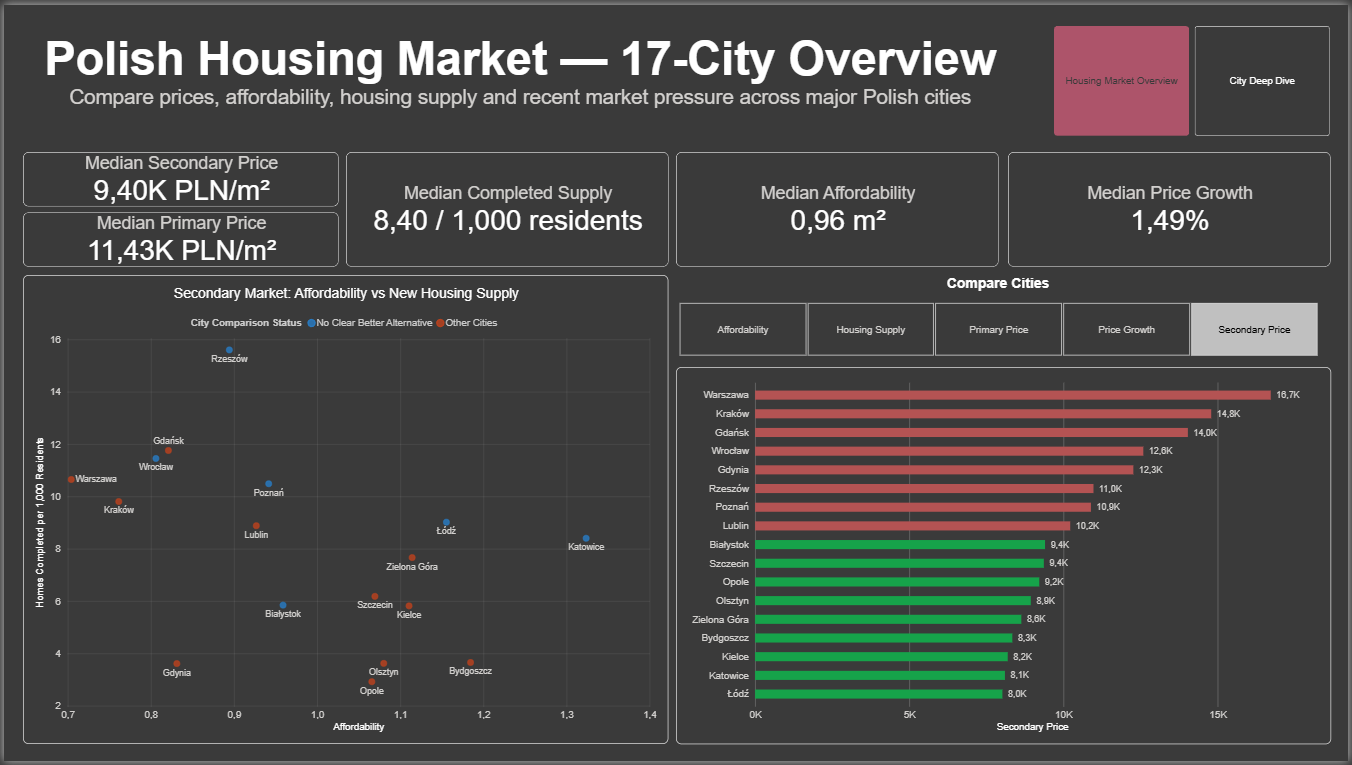

This screenshot's page, from the dashboard's own definition file:
{"tool":"powerbi","page":{"name":"Housing Market Overview","canvas":[1920,1080],"ordinal":0},"visuals":[{"type":"pageNavigator","box":[1500,30,395.7,157.1],"z":0},{"type":"textbox","title":"Polish Housing Market — 17-City Overview","box":[0,38.8,1474.7,253.1],"z":1000},{"type":"cardVisual","fields":{"Data":["_Measures.Median Completed Supply"]},"box":[488.6,210,461.4,164.3],"z":2000},{"type":"cardVisual","fields":{"Data":["_Measures.Median Affordability"]},"box":[960,210,461.4,164.3],"z":3000},{"type":"cardVisual","fields":{"Data":["_Measures.Median Price Pressure"]},"box":[1434.6,210.5,461.1,164.1],"z":4000},{"type":"cardVisual","fields":{"Data":["_Measures.Median Secondary Price","_Measures.Median Primary Price"]},"box":[27.6,210.5,451,164.1],"z":5000},{"type":"scatterChart","title":"Secondary Market: Affordability vs New Housing Supply","fields":{"X":["Avg(city_snapshot.secondary_affordability_m2)"],"Y":["Avg(city_snapshot.completed_per_1000)"],"Category":["dim_city.city_name"],"Series":["city_snapshot.City Comparison Status"]},"box":[27.6,385.9,922.1,670.3],"z":6000},{"type":"slicer","title":"Compare Cities","fields":{"Values":["Parameter.Parameter"]},"box":[944.3,385.7,951.4,117.1],"z":7000},{"type":"clusteredBarChart","fields":{"Y":["_Measures.Median Secondary Price"],"Category":["dim_city.city_name"]},"box":[959.7,517.4,935.9,538.7],"z":8000}]}

Visuals, with their boxes in screenshot pixels (x1, y1, x2, y2), scaled from the page's 1920x1080 canvas onto the 1352x765 screenshot:
pageNavigator: box(1056, 21, 1335, 133)
"Polish Housing Market — 17-City Overview" textbox: box(0, 27, 1038, 207)
cardVisual - _Measures.Median Completed Supply: box(344, 149, 669, 265)
cardVisual - _Measures.Median Affordability: box(676, 149, 1001, 265)
cardVisual - _Measures.Median Price Pressure: box(1010, 149, 1335, 265)
cardVisual - _Measures.Median Secondary Price x _Measures.Median Primary Price: box(19, 149, 337, 265)
"Secondary Market: Affordability vs New Housing Supply" scatterChart: box(19, 273, 669, 748)
"Compare Cities" slicer: box(665, 273, 1335, 356)
clusteredBarChart - _Measures.Median Secondary Price x dim_city.city_name: box(676, 366, 1335, 748)
